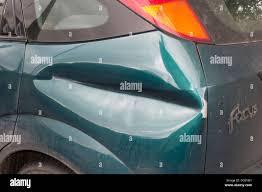dent: (28, 33, 212, 144)
scratch: (195, 82, 211, 127)
